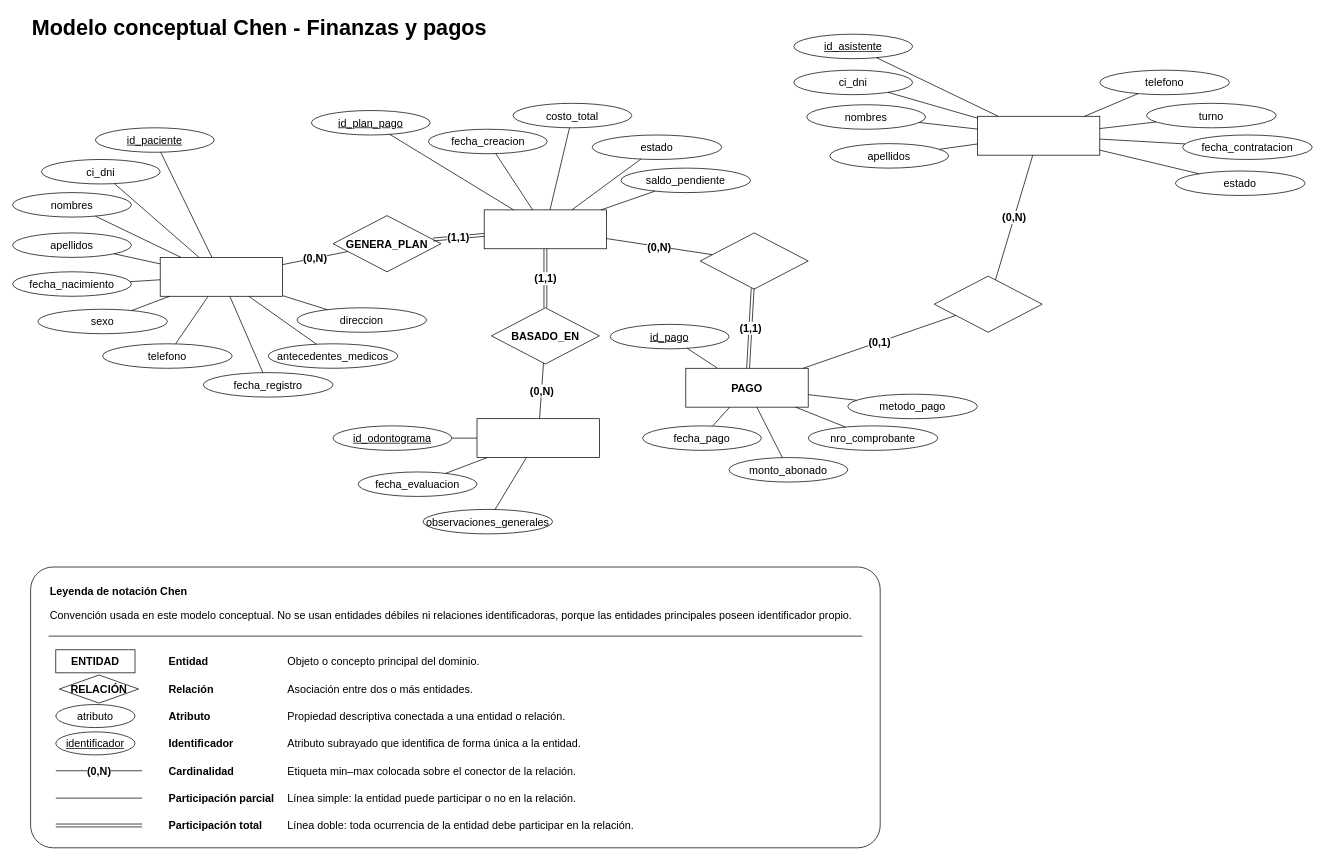
The diagram is 1325 pixels wide and 860 high, and some of its shapes have lost their labels. The shapes that lost their labels are listed below. From the top down, each one's centre as x and y in pixels, then its label:
pixel 1038 135: ASISTENTE
pixel 545 229: PLAN_PAGO
pixel 221 276: PACIENTE
pixel 753 260: REGISTRA_PAGO
pixel 987 303: COBRADO_POR
pixel 537 438: ODONTOGRAMA
